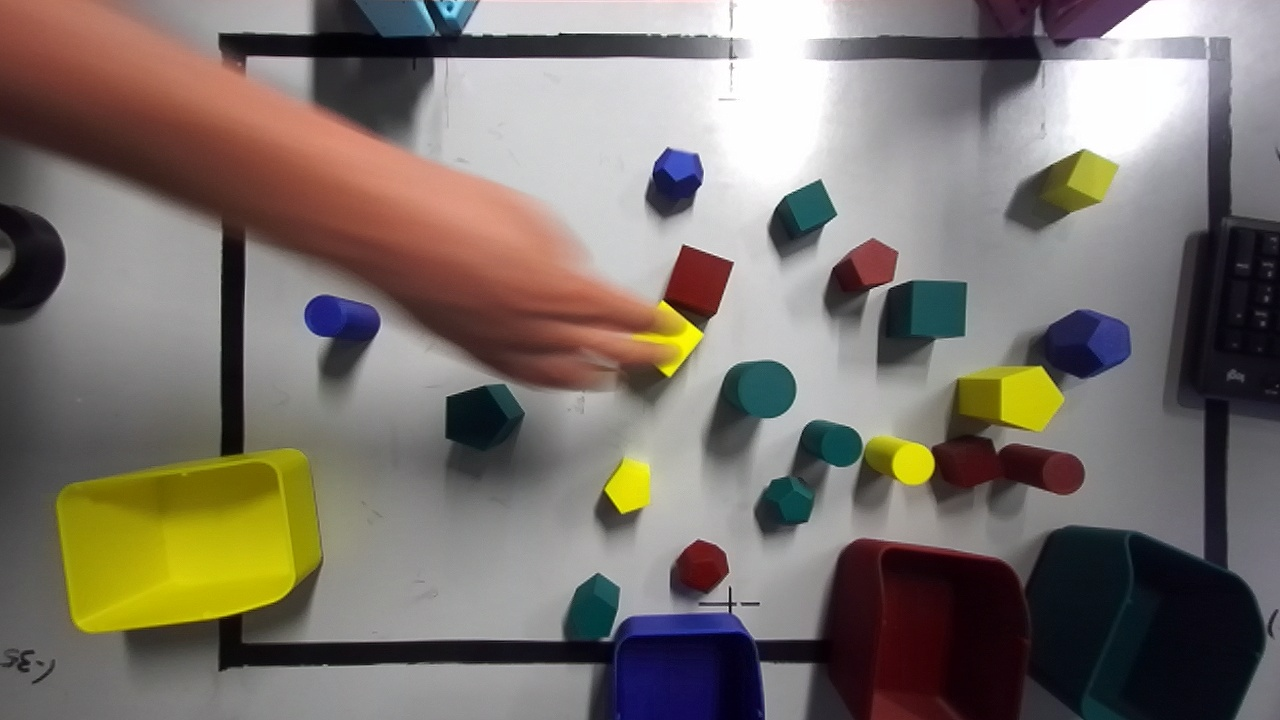bin: (56, 449, 321, 632), (1026, 526, 1264, 719), (827, 539, 1027, 719), (612, 613, 764, 719)
cube: (663, 245, 733, 331), (1040, 150, 1118, 210), (886, 280, 966, 338), (931, 435, 1001, 487), (776, 179, 836, 236)
cylinder: (999, 443, 1084, 494), (721, 360, 796, 417), (304, 294, 380, 341), (864, 435, 934, 484), (800, 420, 862, 466)
dodecahedron: (1044, 309, 1130, 378), (672, 539, 728, 592), (651, 147, 703, 199), (761, 476, 814, 524)
hexagonal: (956, 366, 1063, 430), (445, 384, 524, 450), (564, 573, 619, 639), (830, 238, 897, 292), (603, 457, 649, 513)
